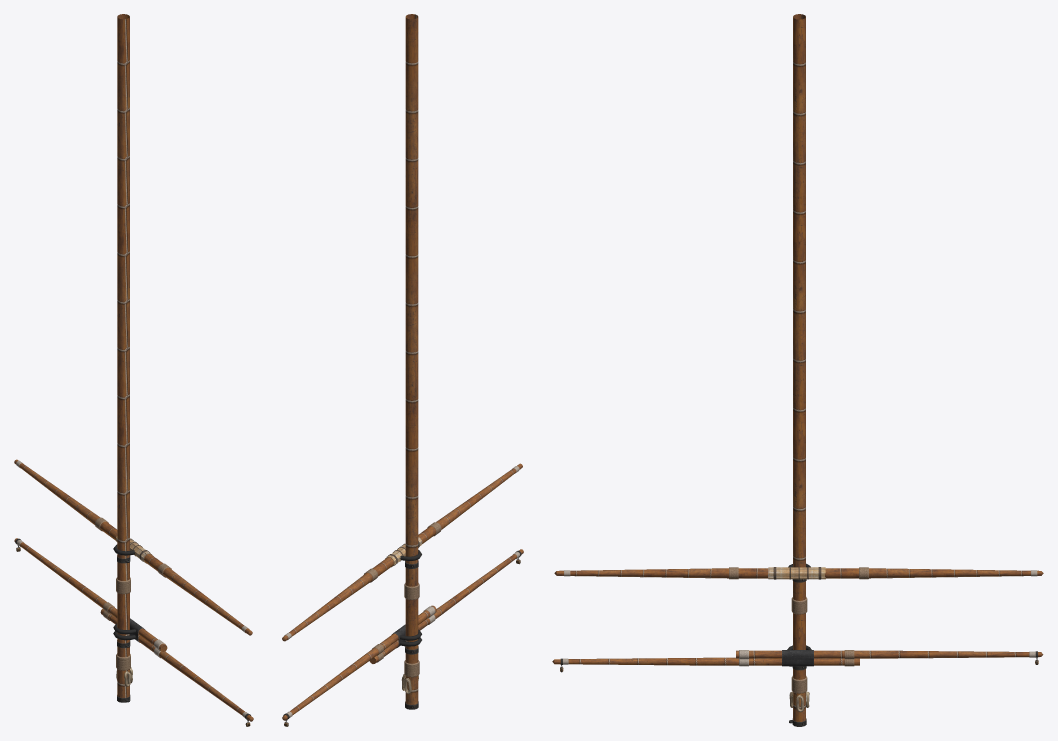
The model's file is Big Mast.fbx.
The picture shows the model from 3 angles, left to right: view 1: azimuth 30°, elevation 25°; view 2: azimuth 150°, elevation 25°; view 3: azimuth 270°, elevation 25°; orthographic projection. The views are drawn at different scales.
Parts seen in each view (by area): view 1: Mast, Top Beam, Bottom Beam, Cylinder1241; view 2: Mast, Top Beam, Bottom Beam, Cylinder1241; view 3: Mast, Top Beam, Bottom Beam, Cylinder1241.
Part boxes in pixels (x1=…): Mast: x1=117, y1=14, x2=129, y2=697; Top Beam: x1=14, y1=459, x2=252, y2=635; Bottom Beam: x1=14, y1=538, x2=167, y2=651; Cylinder1241: x1=100, y1=608, x2=253, y2=721; Mast: x1=405, y1=14, x2=418, y2=704; Top Beam: x1=282, y1=463, x2=522, y2=641; Bottom Beam: x1=282, y1=605, x2=436, y2=720; Cylinder1241: x1=369, y1=549, x2=523, y2=663; Mast: x1=793, y1=14, x2=805, y2=721; Top Beam: x1=554, y1=567, x2=1043, y2=579; Bottom Beam: x1=736, y1=650, x2=1043, y2=659; Cylinder1241: x1=552, y1=657, x2=859, y2=666.
Bounding box in the file's own units: 188 × 3317 × 5265.
6 materials, 5 textured.
